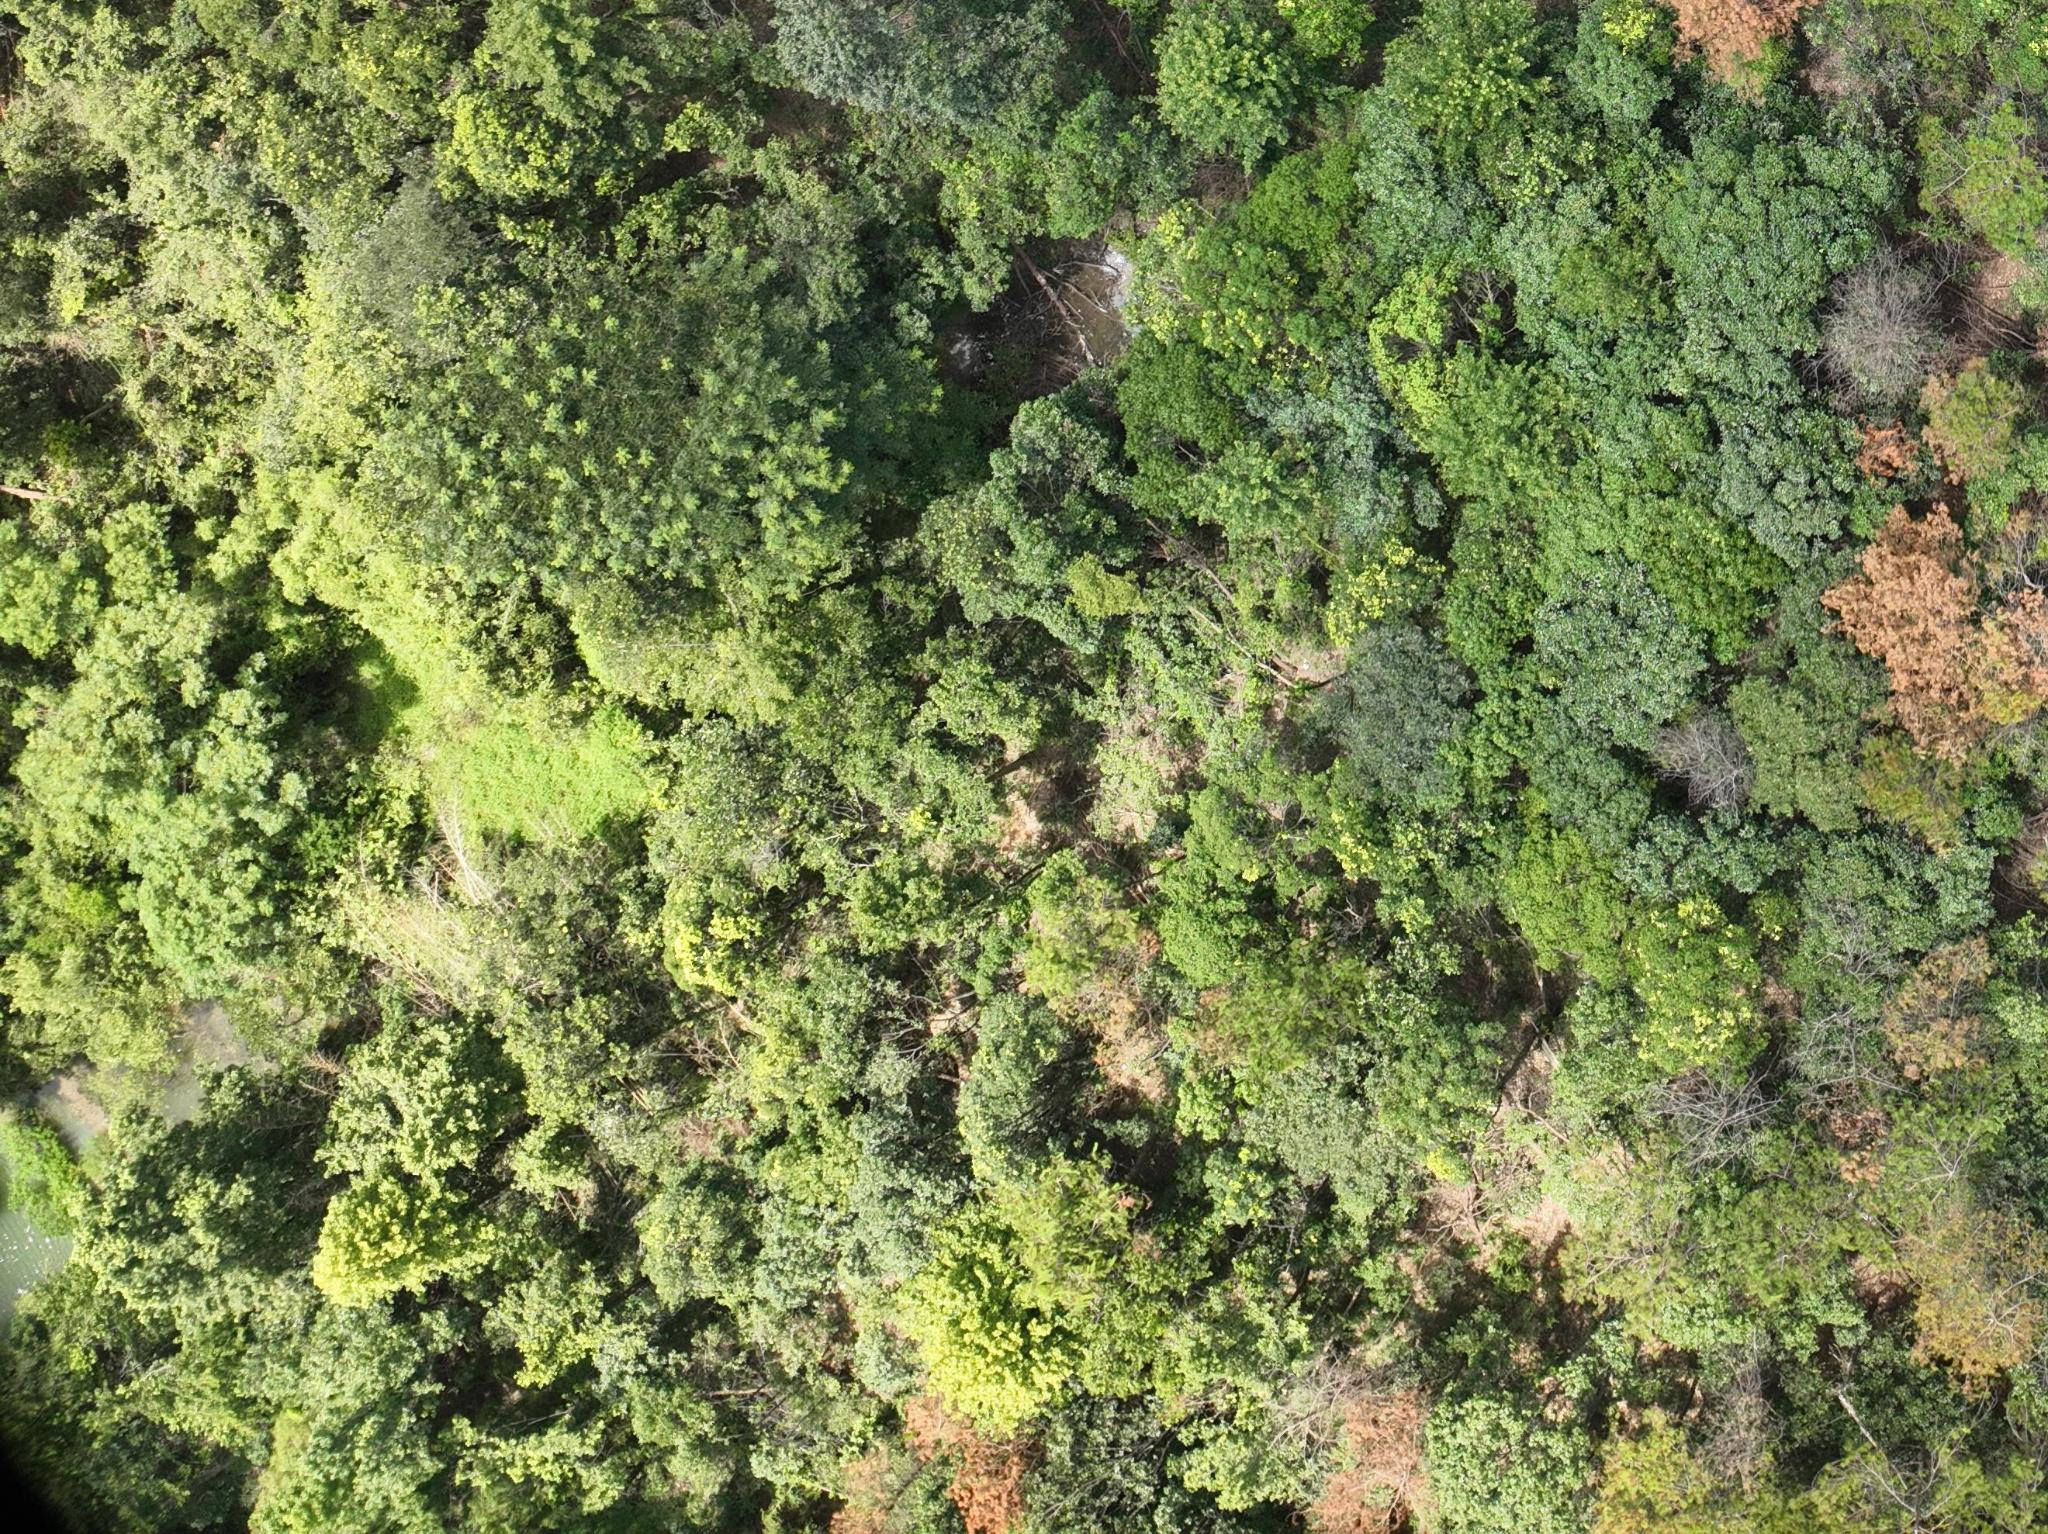dead: (1827, 240, 1948, 400)
heavy: (1830, 424, 2042, 752), (836, 1392, 1022, 1531), (1291, 1386, 1428, 1532), (1668, 3, 1806, 77)
light: (1906, 1212, 2040, 1384), (1880, 933, 1990, 1083)
